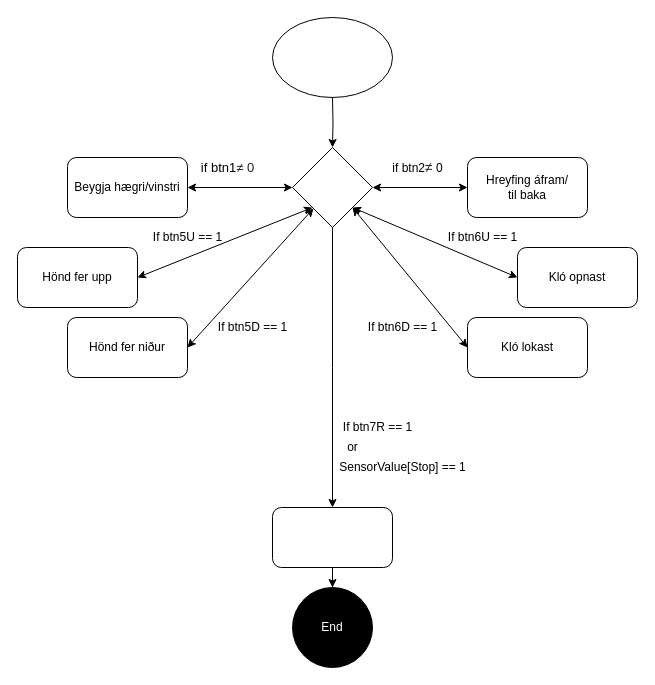
Some shapes in this 655 by 685 pixel diagram are drawn without their labels. Here are the shapes that lost their labels. From the top down, the centre of each, then its label:
the point at 332,57: Start
the point at 332,537: Slekkur á öllum tasks stopAllTasks()
